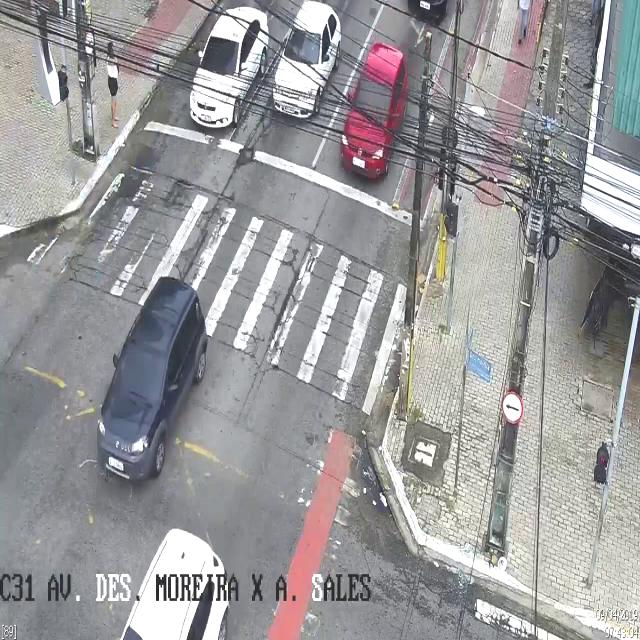Car: (96, 277, 208, 480), (118, 527, 228, 639), (188, 5, 270, 128), (339, 42, 408, 180), (274, 0, 345, 120)
